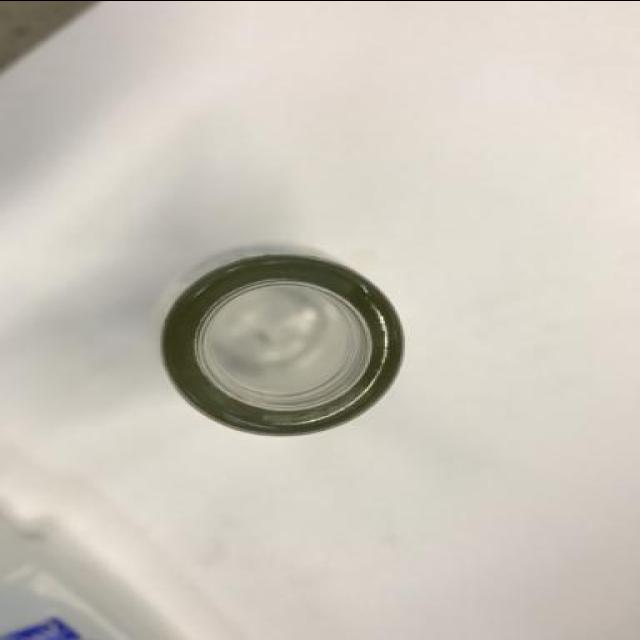glass: (164, 244, 406, 441)
